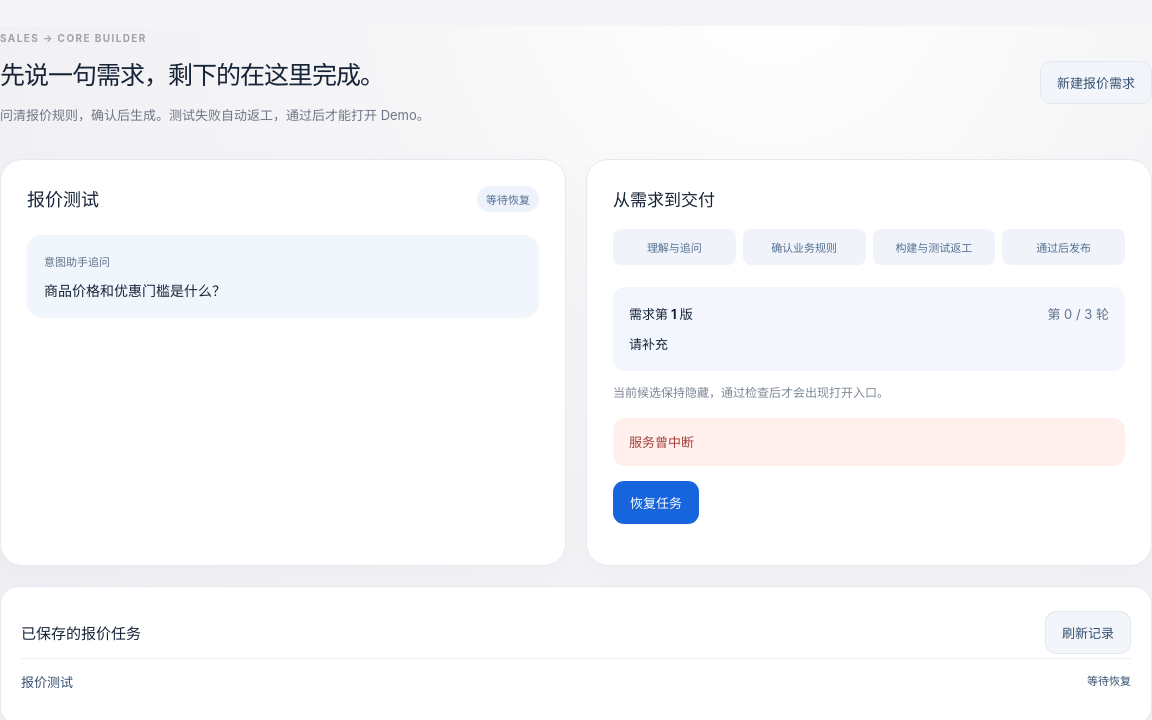
Test: Sales quotation workflow › restores a persisted interrupted task and offers recovery without exposing candidates
The width and height of the screenshot is (1152, 720).
Click the button "恢复任务". click: (656, 502)
box: [613, 481, 699, 524]
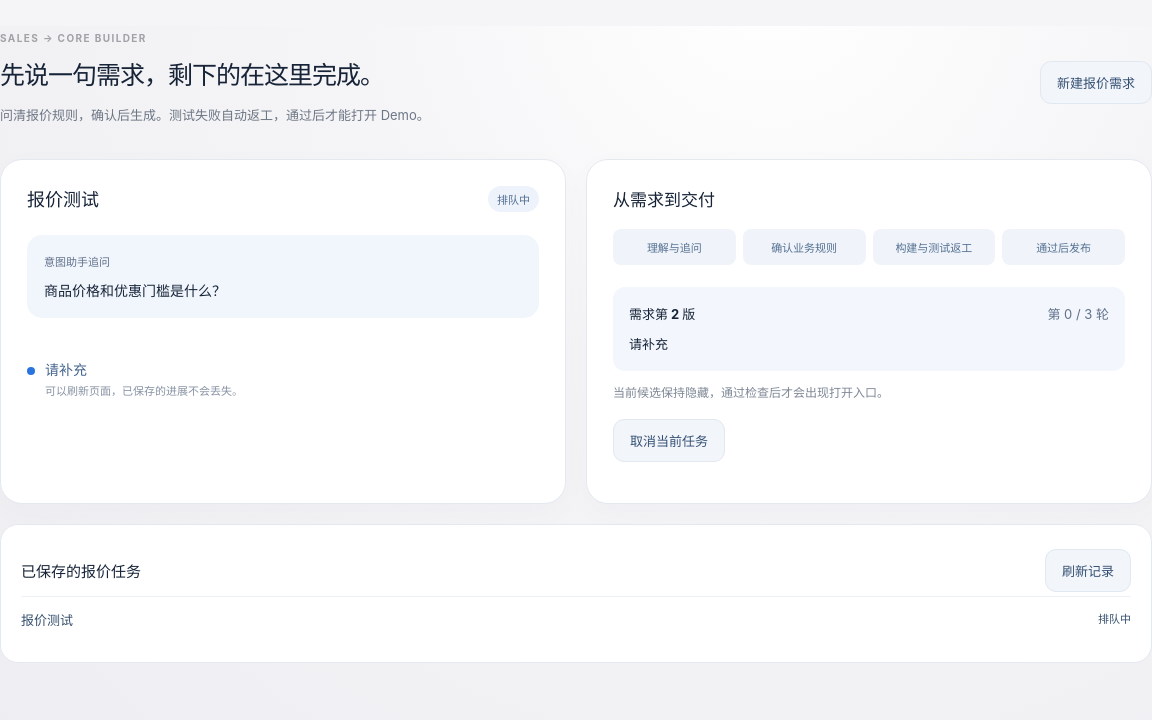
Result: the text "需求第 2 版" is shown at [629, 306, 695, 322]
